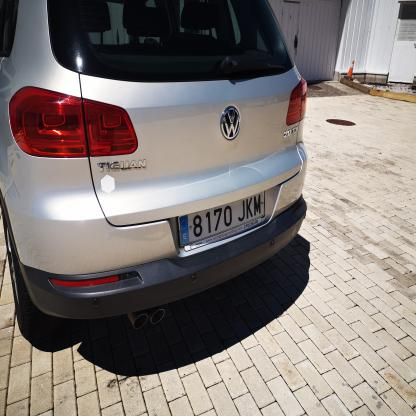patente: (180, 193, 265, 247)
